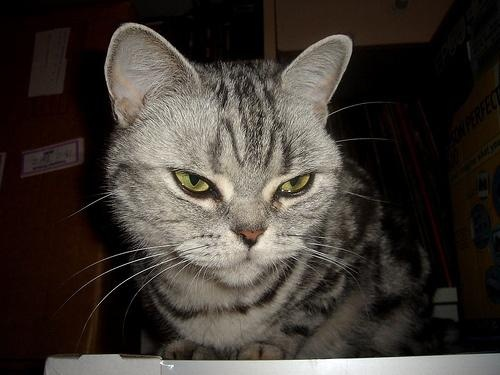cat: (57, 22, 443, 361)
